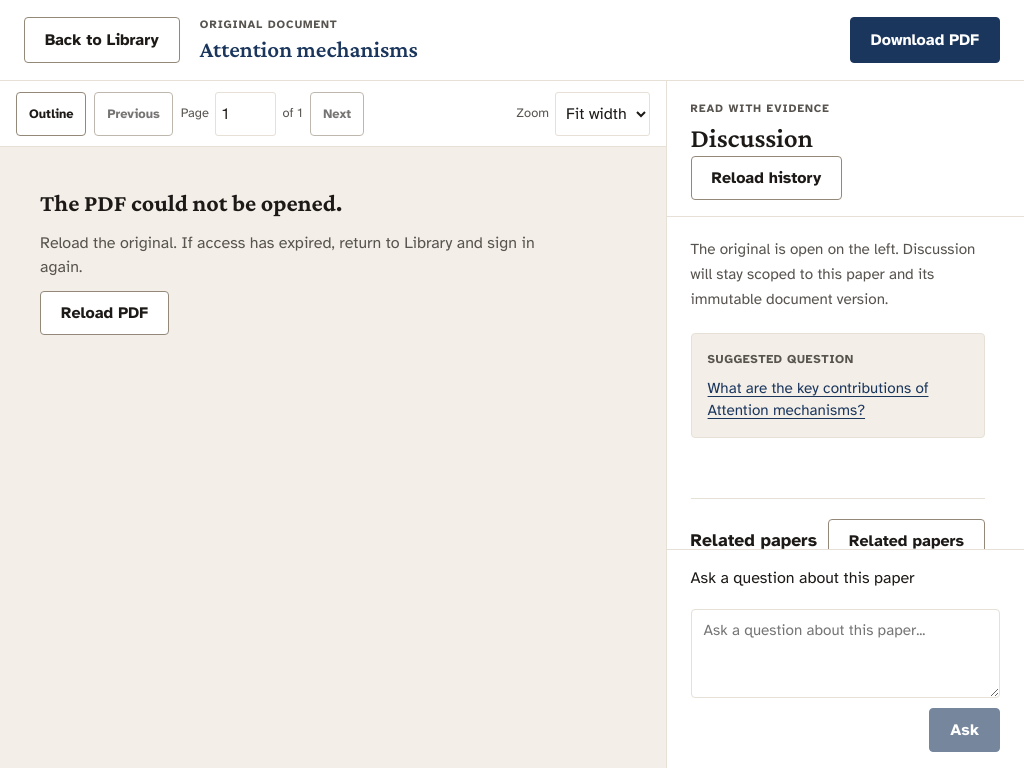
Test case: blocks repeated search during a server cooldown without a hidden retry
Click the button "Related papers": click(906, 541) [828,519,985,563]
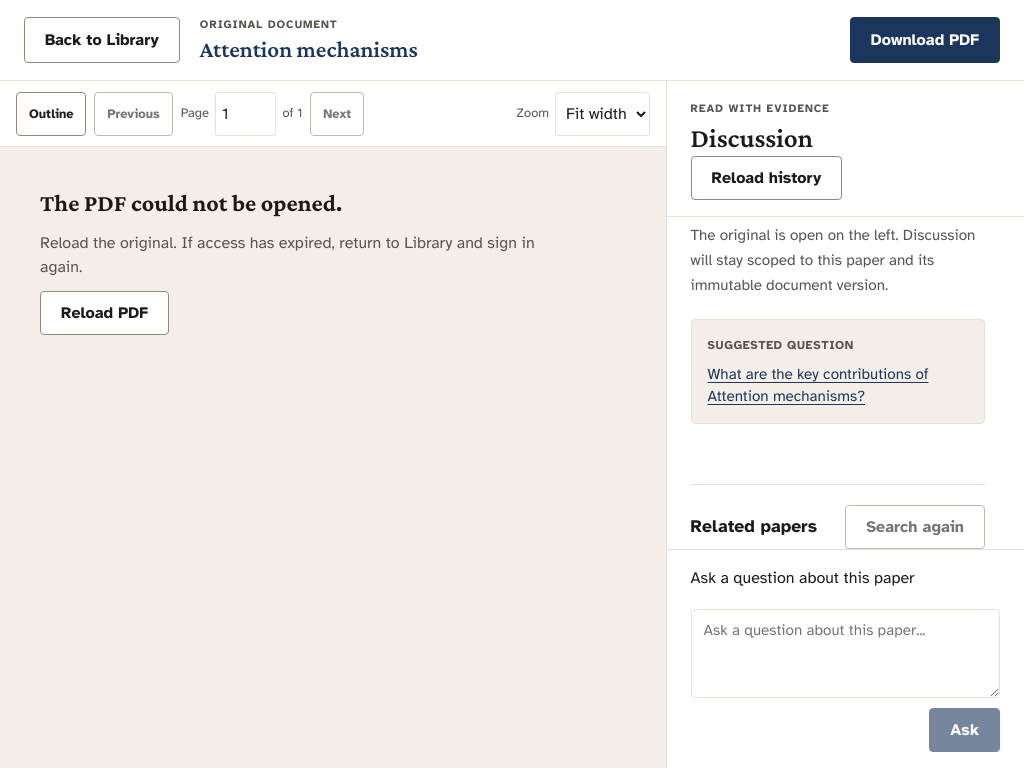
Expected: the button "Search again" is disabled, [845,505,985,549]
